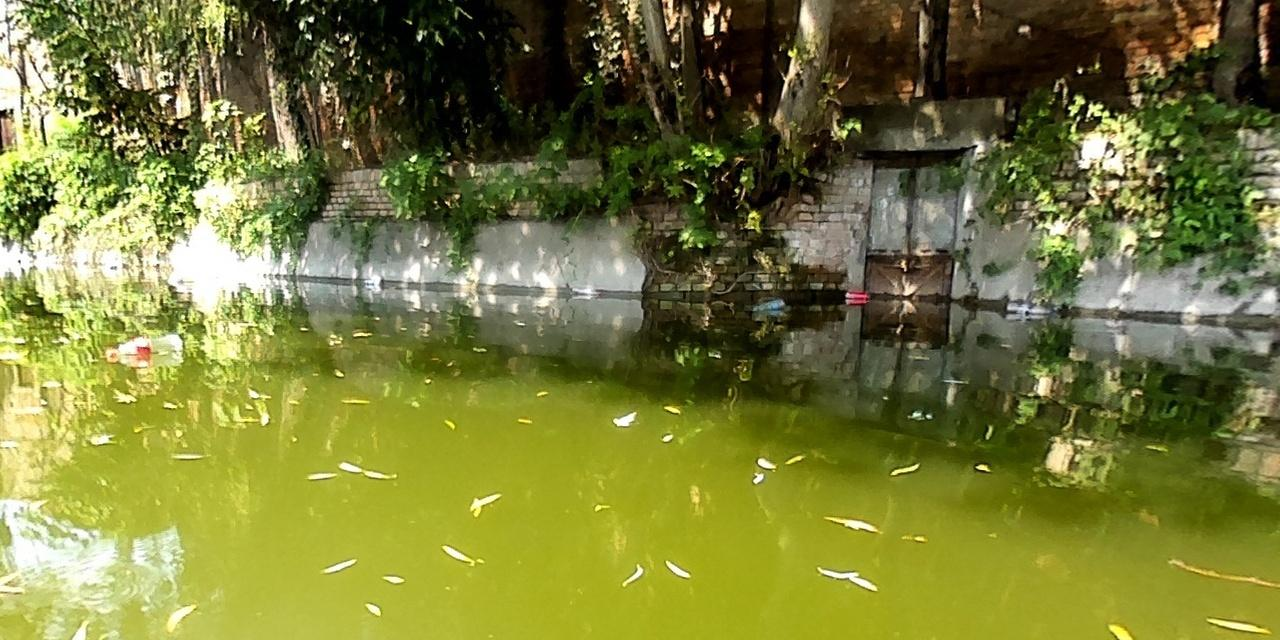bottle: (103, 326, 188, 364), (1000, 299, 1053, 320), (746, 296, 787, 316), (839, 287, 870, 300)
